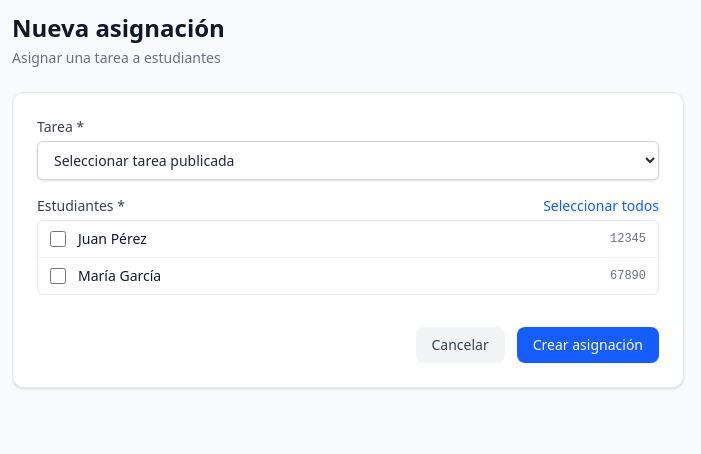
Test: TaskAssignmentFormPage › shows validation errors on empty submit
Click the button "Crear asignación" at (588,345), box [517,327,659,363]
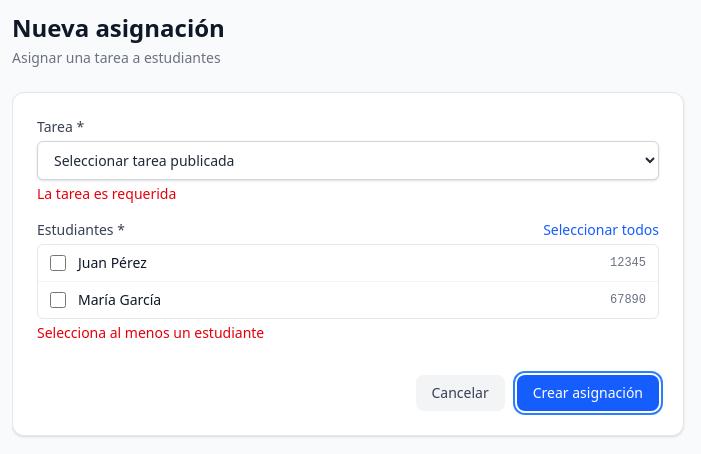
Result: the text "La tarea es requerida" is shown at [37,184,176,203]
Result: the text "Selecciona al menos un estudiante" is shown at [37,323,264,342]
